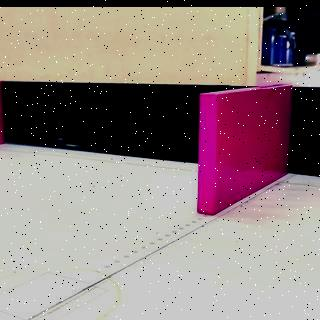xparking: (200, 94, 294, 212)
